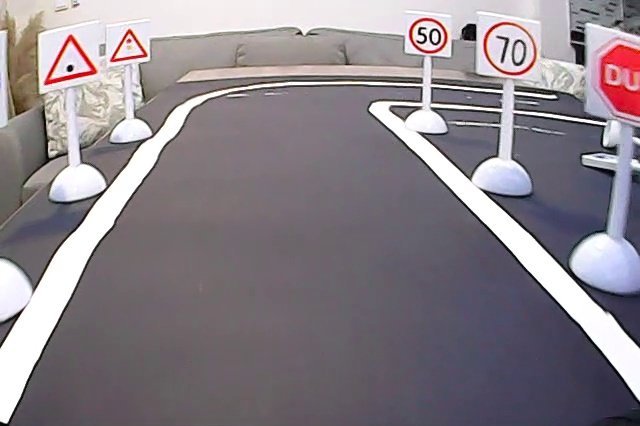green light: (41, 29, 100, 88)
red light: (109, 27, 150, 65)
speed limit 50: (407, 15, 450, 56)
speed limit 70: (481, 20, 540, 78)
